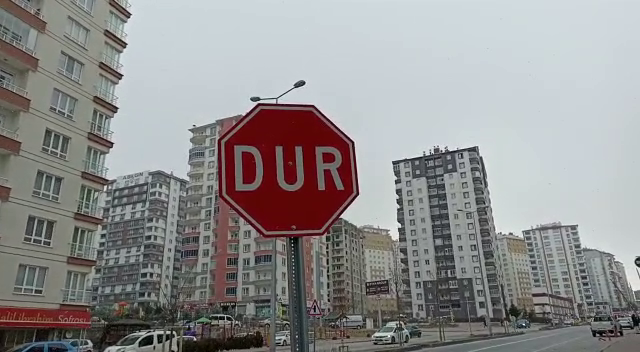stop: (215, 101, 363, 240)
